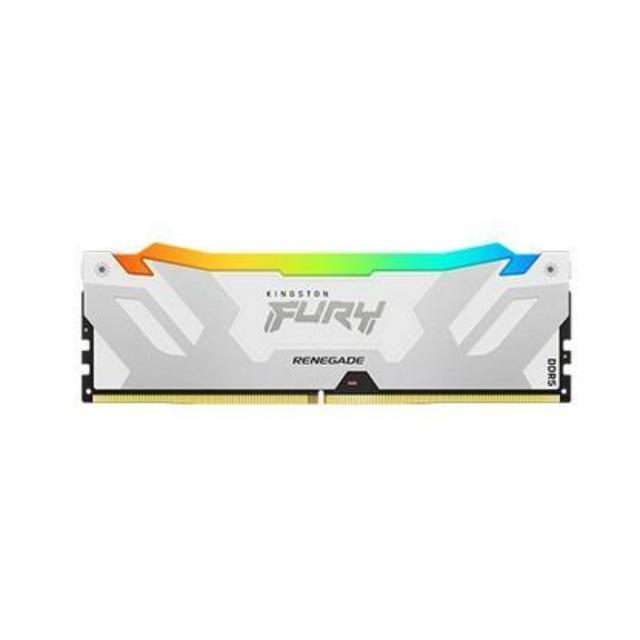RAM: (70, 232, 592, 412)
